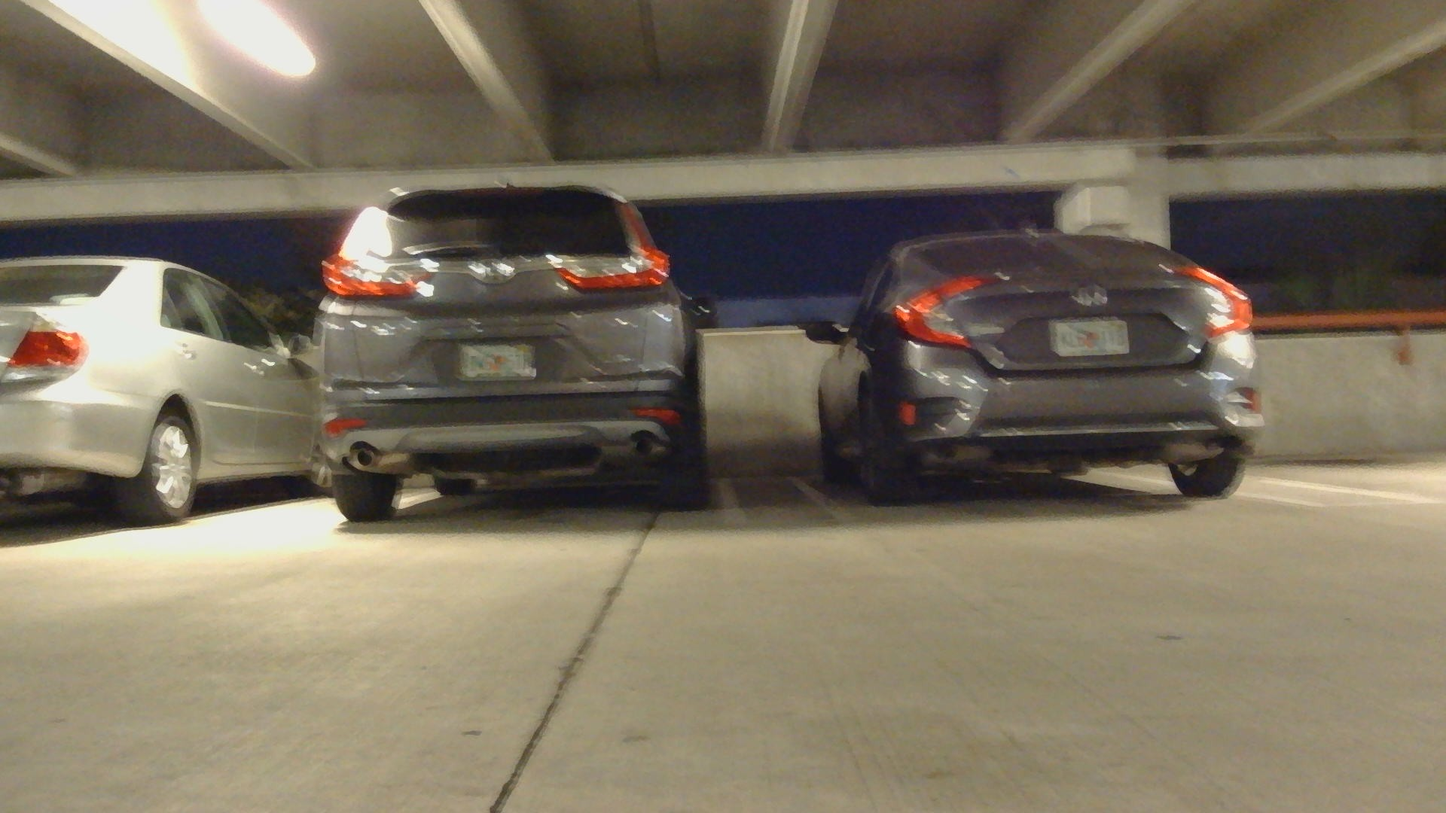empty_spot: (1251, 371, 1446, 508)
occupied_spot: (311, 167, 723, 535), (790, 216, 1276, 526), (0, 255, 334, 537)
